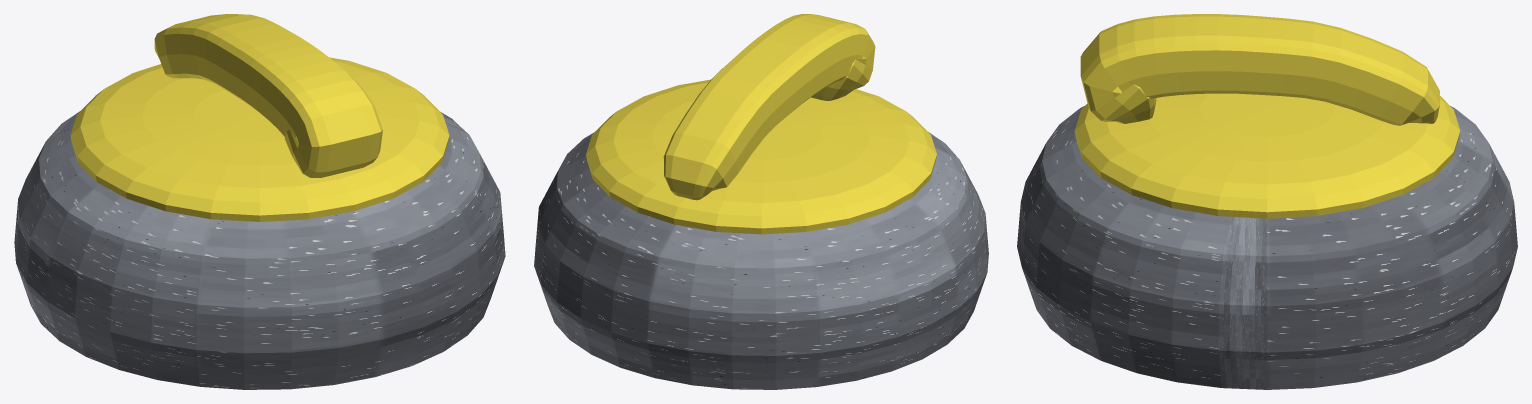
File: stone_yellow.glb
3 views of the same model, side by side, from view 1: azimuth 30°, elevation 25°; view 2: azimuth 150°, elevation 25°; view 3: azimuth 270°, elevation 25° (orthographic). The views are drawn at different scales.
Visible parts, largest first — view 1: stone_body, handle_cap, handle_grip; view 2: stone_body, handle_cap, handle_grip; view 3: stone_body, handle_cap, handle_grip.
Boxes of the visible parts, x1,y1,x2,y2 form: stone_body: [14, 111, 505, 389]; handle_cap: [70, 57, 449, 221]; handle_grip: [154, 14, 382, 177]; stone_body: [534, 132, 988, 389]; handle_cap: [586, 79, 936, 234]; handle_grip: [663, 14, 875, 200]; stone_body: [1017, 106, 1517, 389]; handle_cap: [1074, 93, 1460, 218]; handle_grip: [1080, 14, 1439, 125].
Size of the model in its own units: 0.29 by 0.1751 by 0.29.
Materials: 2 (1 with a texture image).
